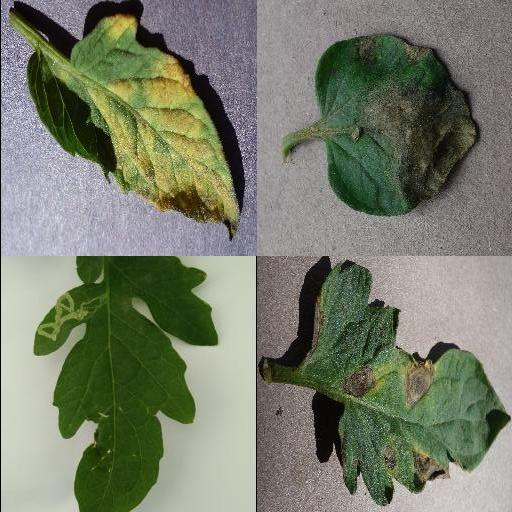Early Blight: (301, 265, 509, 506)
Late Blight: (311, 33, 483, 217)
Leaf Miner: (30, 256, 218, 511)
Leaf Mold: (25, 14, 239, 240)
